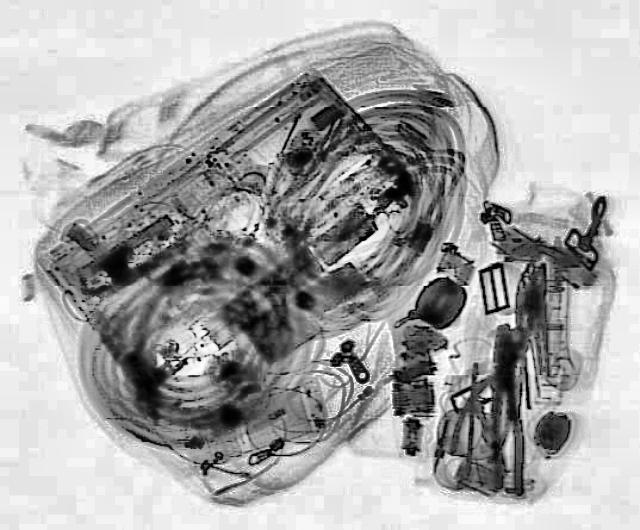Pliers: (486, 325, 526, 495)
